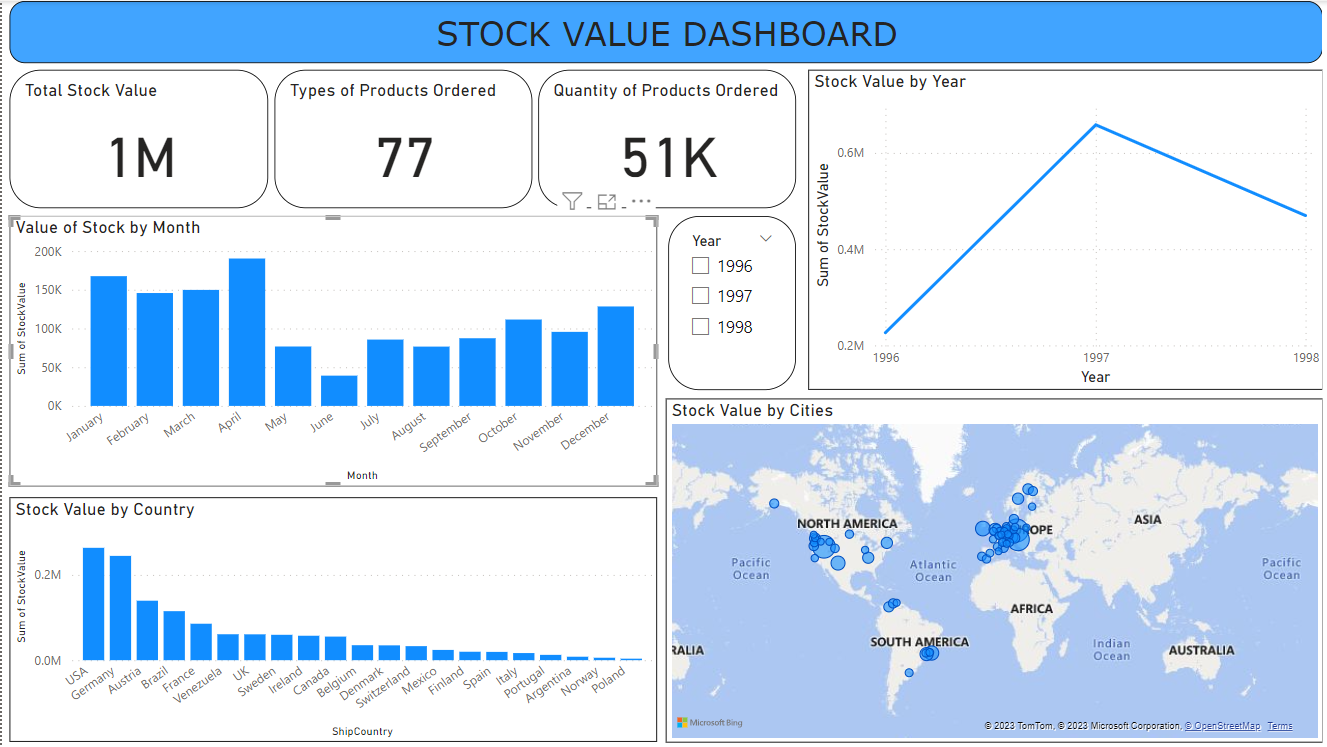

The page's visual inventory and layout, read from the dashboard file:
{"tool":"powerbi","page":{"name":"Page 1","canvas":[1280,720],"ordinal":0},"visuals":[{"type":"lineChart","title":"Stock Value by Year","fields":{"Category":["Orders.OrderDate.Variation.Date Hierarchy.Year"],"Y":["Sum(Orders.StockValue)"]},"box":[777.9,66.3,496.9,308.7],"z":0},{"type":"map","title":"Stock Value by Cities","fields":{"Category":["Orders.ShipCity"],"Size":["Sum(Orders.StockValue)"]},"box":[640.4,383.5,634.4,331.7],"z":1000},{"type":"columnChart","title":"Stock Value by Country","fields":{"Category":["Orders.ShipCountry"],"Y":["Sum(Orders.StockValue)"]},"box":[7.2,478.8,624.7,236.4],"z":2000},{"type":"textbox","box":[7.2,0,1267.5,60.3],"z":3000},{"type":"card","title":"Total Stock Value","fields":{"Values":["Sum(Orders.StockValue)"]},"box":[7.2,66.3,249.6,133.9],"z":4000},{"type":"card","title":"Quantity of Products Ordered","fields":{"Values":["Sum(Orders.Order_Details.Quantity)"]},"box":[517.4,66.3,248.4,133.9],"z":5000},{"type":"card","title":"Types of Products Ordered","fields":{"Values":["Count(Orders.Order_Details.ProductID)"]},"box":[262.9,66.3,248.4,133.9],"z":6000},{"type":"slicer","fields":{"Values":["Orders.OrderDate.Variation.Date Hierarchy.Year"]},"box":[642.8,207.4,123,167.6],"z":7000},{"type":"clusteredColumnChart","title":"Value of Stock by Month","fields":{"Category":["Orders.OrderDate.Variation.Date Hierarchy.Month"],"Y":["Sum(Orders.StockValue)"]},"box":[7.2,207.4,624.7,260.5],"z":8000}]}

Visuals, with their boxes in screenshot pixels (x1, y1, x2, y2), scaled from the page's 1280x720 canvas onto the 1327x747 screenshot:
"Stock Value by Year" lineChart: x1=806, y1=69, x2=1322, y2=389
"Stock Value by Cities" map: x1=664, y1=398, x2=1322, y2=742
"Stock Value by Country" columnChart: x1=7, y1=497, x2=655, y2=742
textbox: x1=7, y1=0, x2=1322, y2=63
"Total Stock Value" card: x1=7, y1=69, x2=266, y2=208
"Quantity of Products Ordered" card: x1=536, y1=69, x2=794, y2=208
"Types of Products Ordered" card: x1=273, y1=69, x2=530, y2=208
slicer - Orders.OrderDate.Variation.Date Hierarchy.Year: x1=666, y1=215, x2=794, y2=389
"Value of Stock by Month" clusteredColumnChart: x1=7, y1=215, x2=655, y2=485
